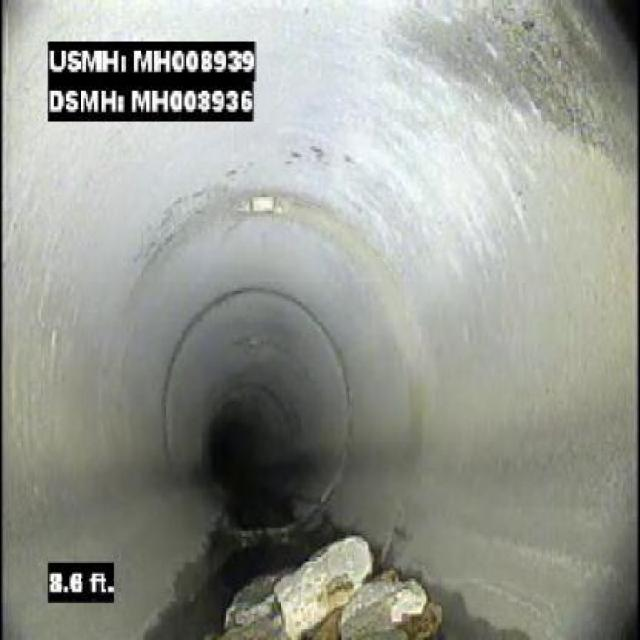Obstacle: (222, 532, 444, 637)
